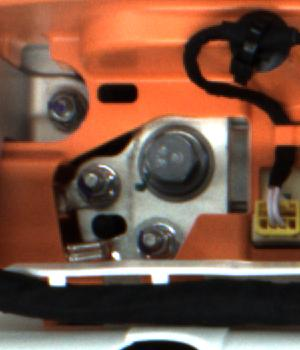nut_b: (131, 125, 214, 202)
screw_s: (74, 165, 112, 205), (135, 220, 171, 258), (37, 94, 78, 121)
